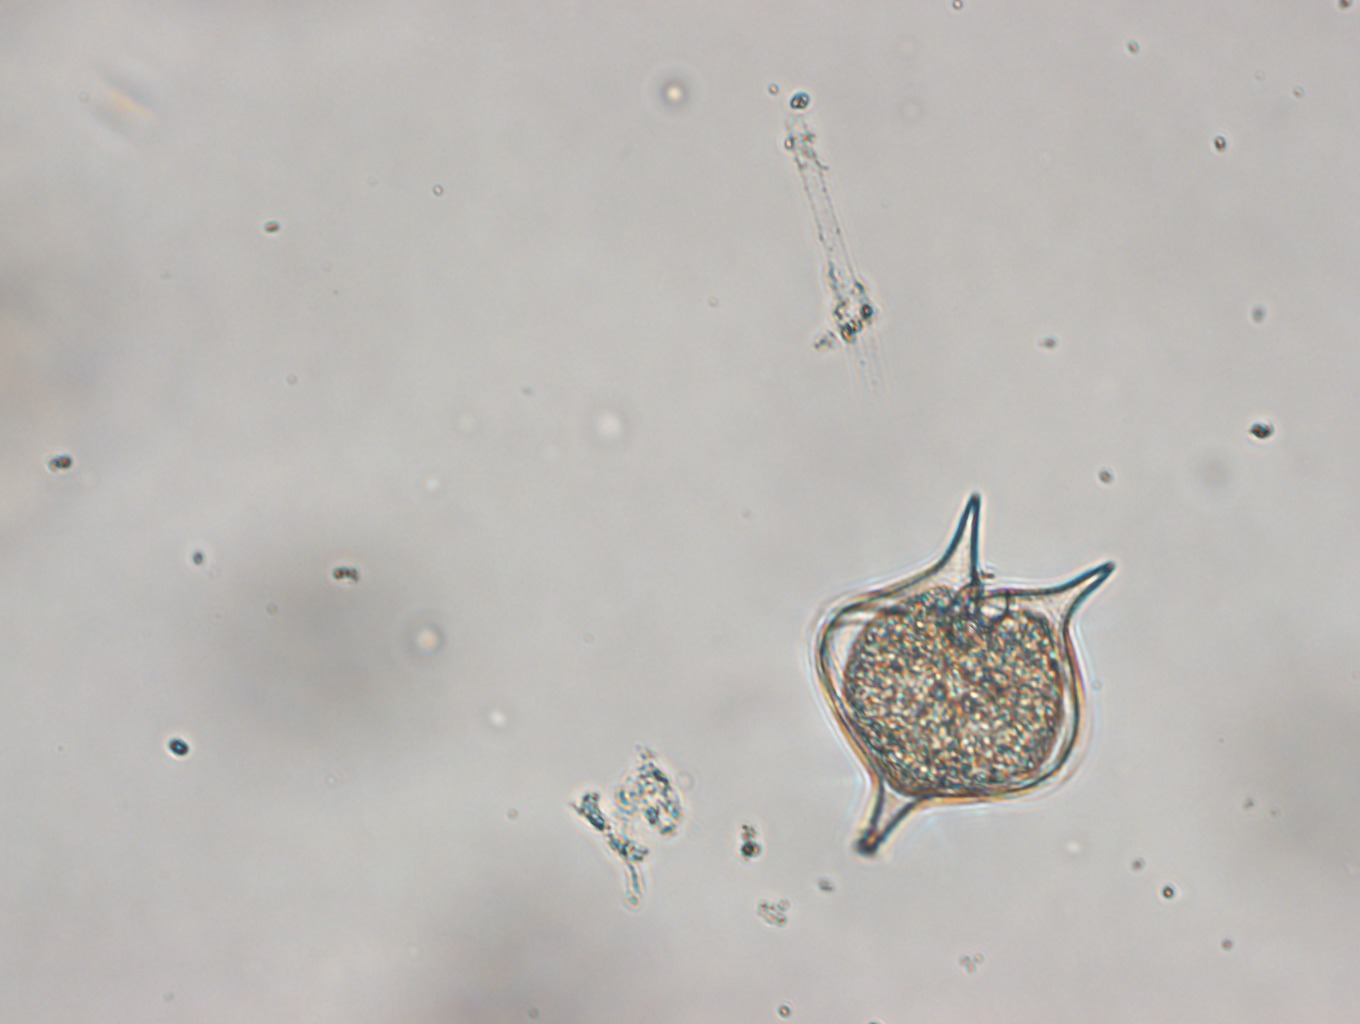protoperidinium: (772, 485, 1121, 861)
